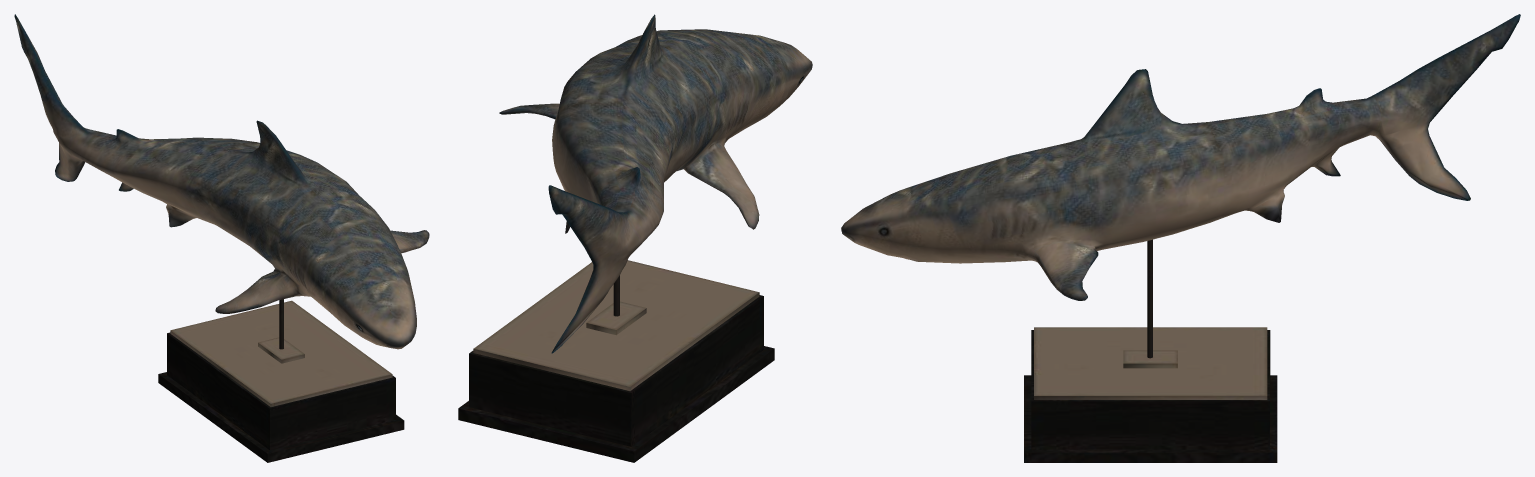
The model's file is bronze_shark.glb.
3 renders of one model, left to right at view 1: azimuth 30°, elevation 25°; view 2: azimuth 150°, elevation 25°; view 3: azimuth 270°, elevation 25°, orthographic. The views are drawn at different scales.
Parts seen in each view (by area): view 1: bronze_shark_statue; view 2: bronze_shark_statue; view 3: bronze_shark_statue.
Boxes of the visible parts, x1=… form: bronze_shark_statue: x1=14, y1=14, x2=429, y2=462; bronze_shark_statue: x1=458, y1=14, x2=812, y2=462; bronze_shark_statue: x1=841, y1=14, x2=1520, y2=462.
Bounding box in the file's own units: 0.352 × 0.4314 × 0.7597.
Materials: 1 (1 with a texture image).
